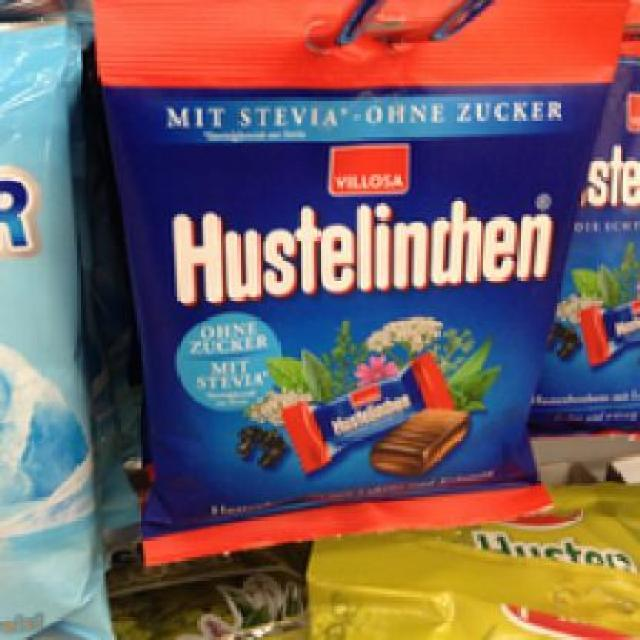Candy: (88, 0, 614, 569)
